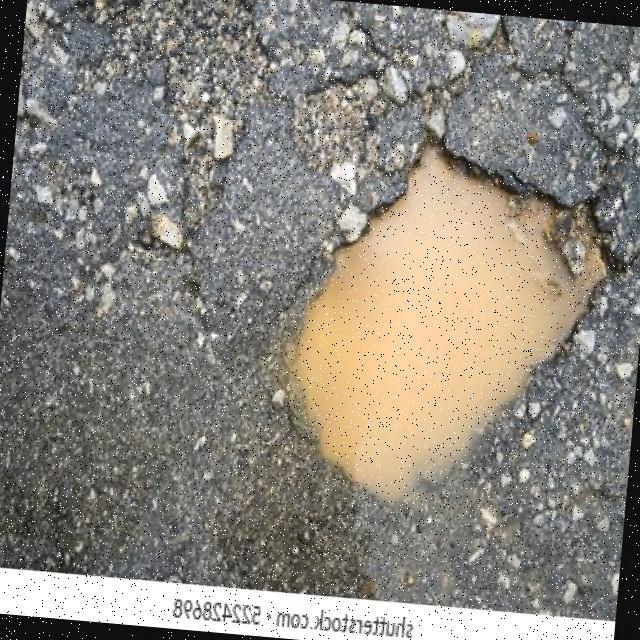Pothole: (286, 127, 609, 502)
